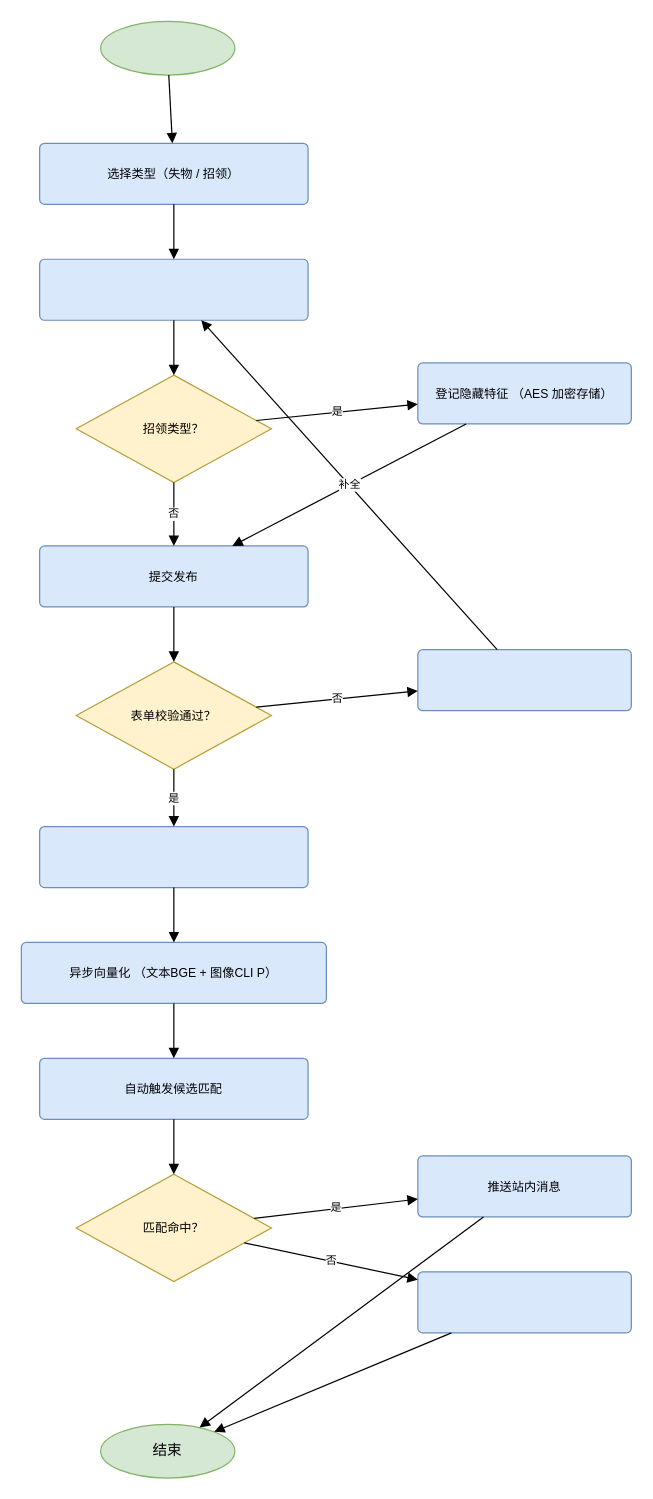
Some shapes in this 653 by 1499 pixel diagram are drawn without their labels. Here are the shapes that lost their labels. From the top down, the centre of each, then its label:
At point (167, 47): "开始".
At point (173, 289): "填写信息 + 上传照片".
At point (524, 679): "提示补全信息".
At point (173, 856): "信息入库（items）".
At point (524, 1302): "开启持续订阅".
